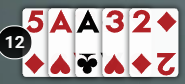2: (129, 9, 155, 35)
3: (102, 9, 128, 34)
5: (23, 9, 46, 34)
a: (75, 8, 101, 35), (49, 8, 74, 35)
